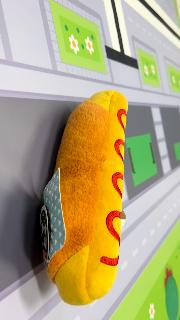hotdog: (40, 90, 128, 306)
